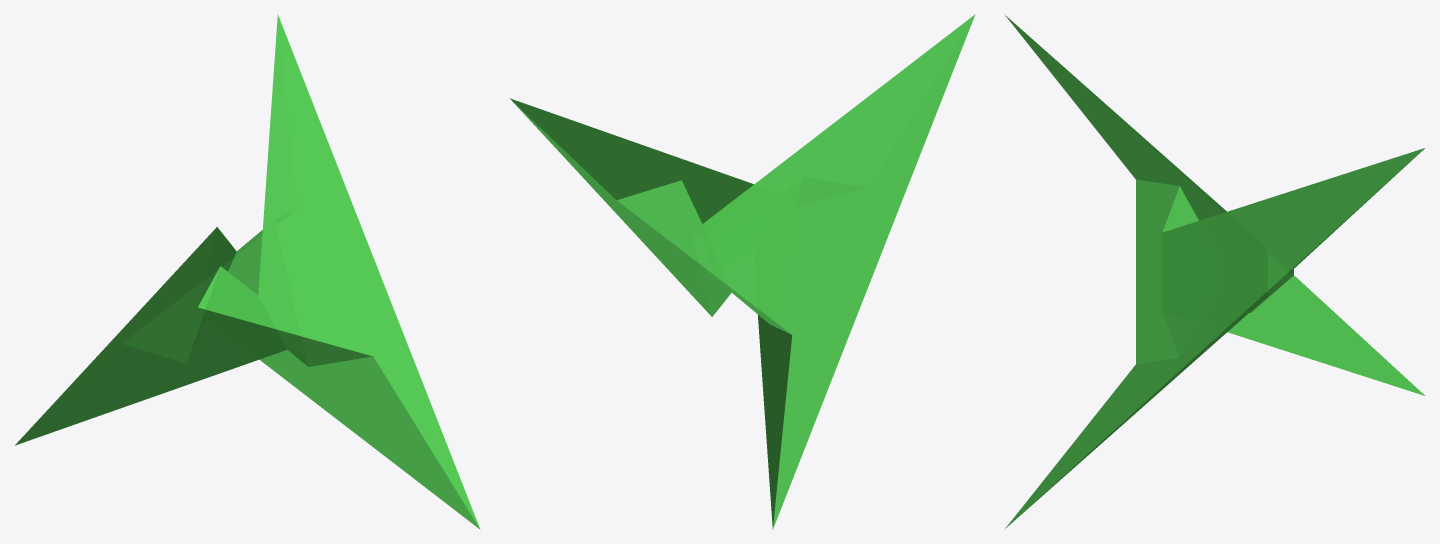
Rendered from HexagonalToroid_C.obj.
3 renders of one model, left to right at view 1: azimuth 30°, elevation 25°; view 2: azimuth 150°, elevation 25°; view 3: azimuth 270°, elevation 25°, orthographic. The views are drawn at different scales.
Bounding box in the file's own units: 3.6 × 4.8 × 4.8.
